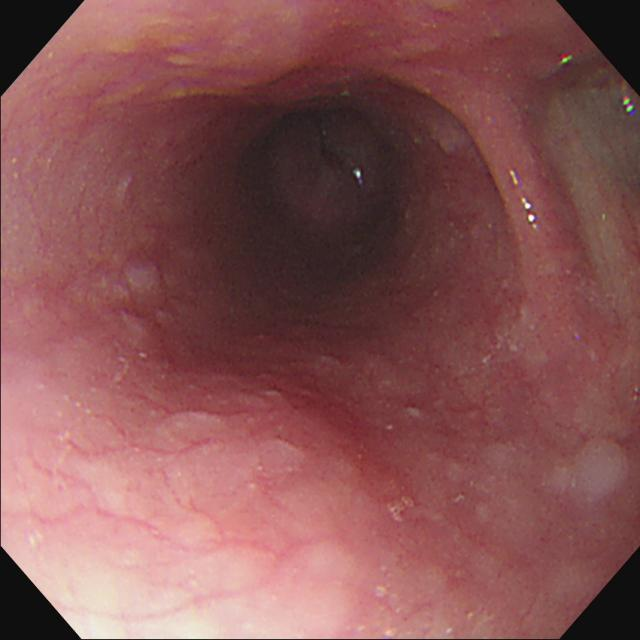I: (279, 110, 392, 247)
U: (506, 164, 541, 237), (619, 86, 640, 124)
